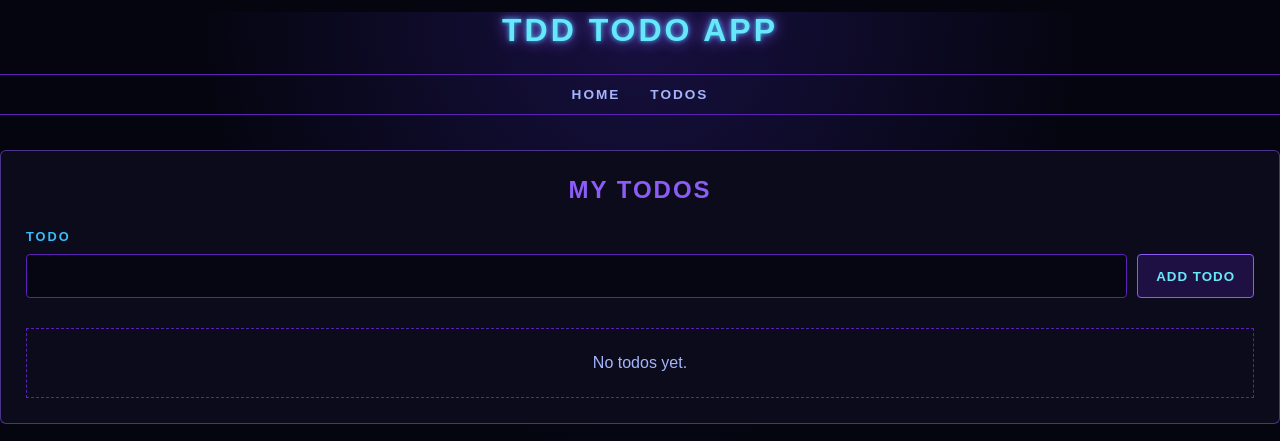
Test: Todo App Integration › allows a user to delete a todo
The width and height of the screenshot is (1280, 441).
Type "Delete me" into the field labelled "Todo".
click(577, 276); type("Delete me")  # box [26, 254, 1127, 298]
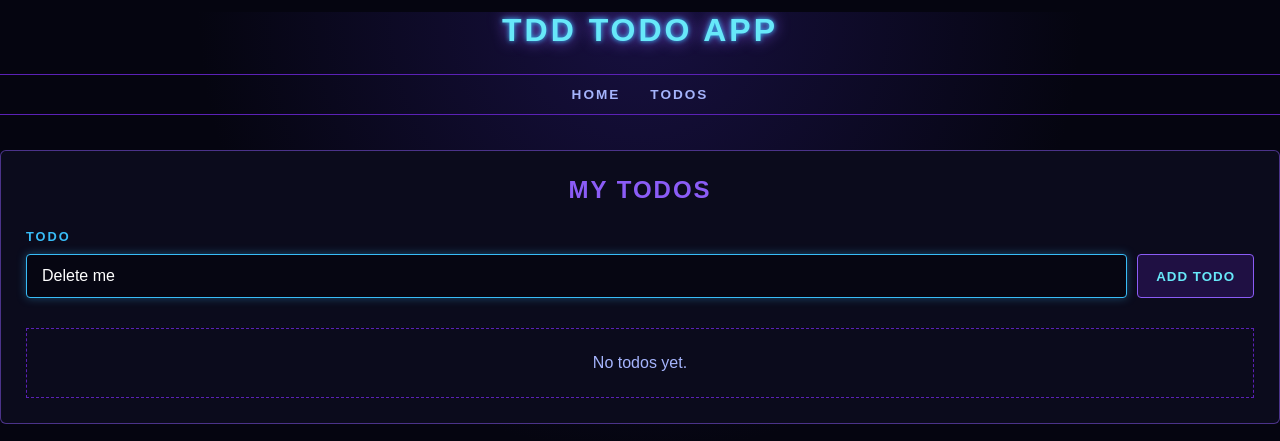
Click the button "Add Todo".
click(1196, 276)  # box [1137, 254, 1254, 298]
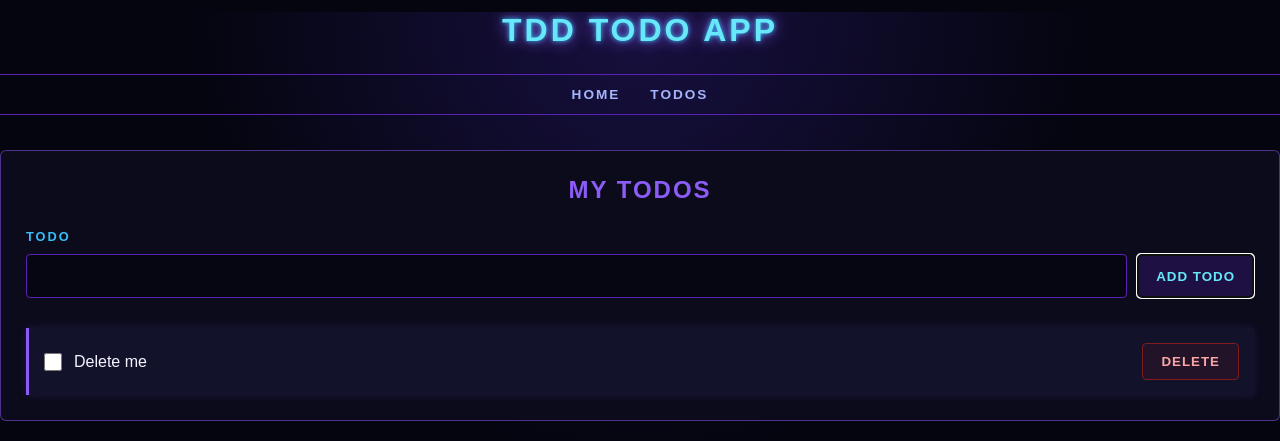
Check: the text "Delete me" is shown, box [74, 352, 147, 370]
Click the button with aria-label "delete delete me".
click(1191, 362)  # box [1142, 343, 1239, 380]
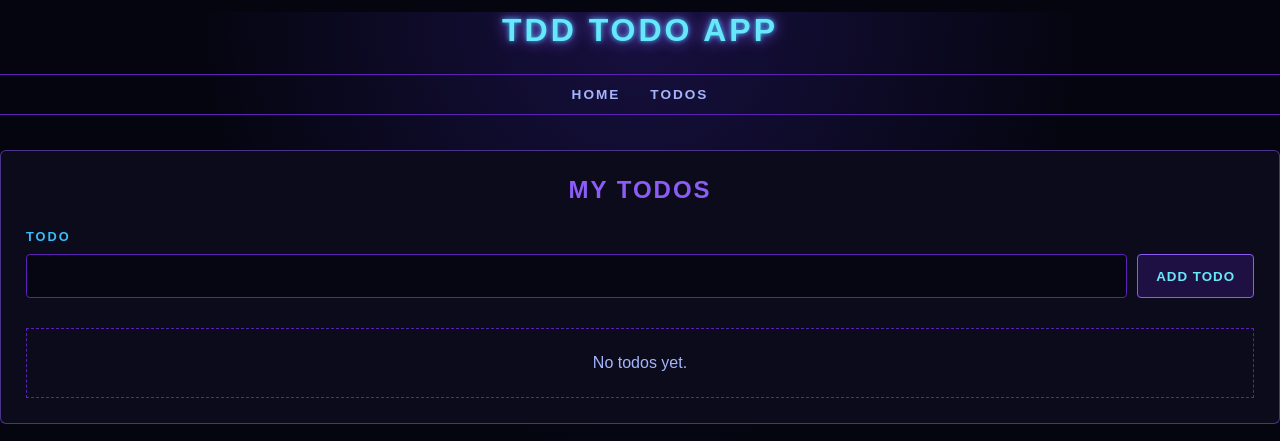
Check: the text "Delete me" is gone
